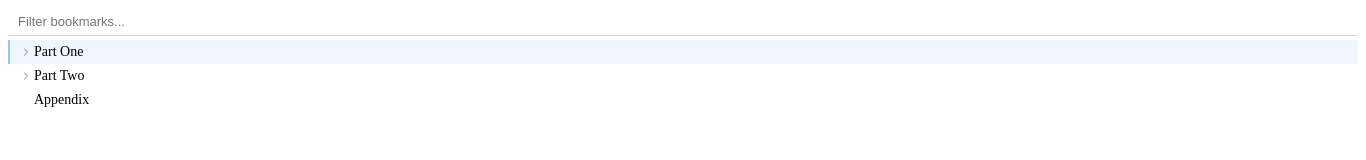
Scenario: BookmarkPanel › filter › narrows visible items
Type "Appendix" into the search field labelled "Filter bookmarks" at (683, 22), box [8,8,1358,36]
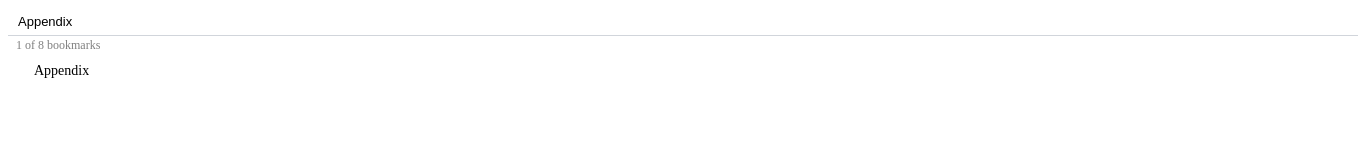
Expected: the text "Appendix" is shown, [34,63,89,79]
Now the number of list items is 1, box [8,59,1358,83]
